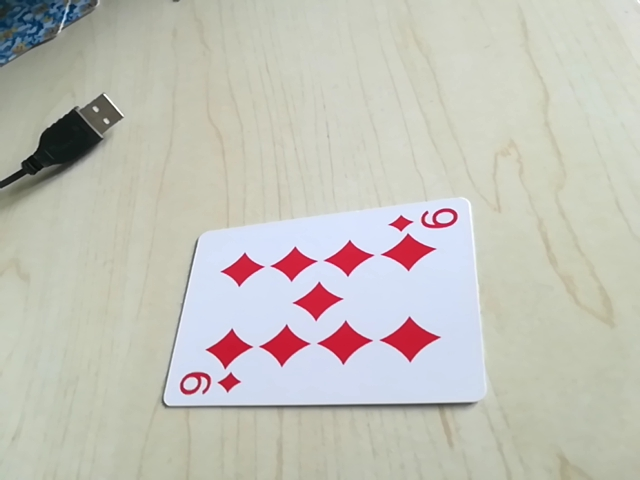fk 9: (389, 202, 463, 237), (170, 368, 241, 403)
